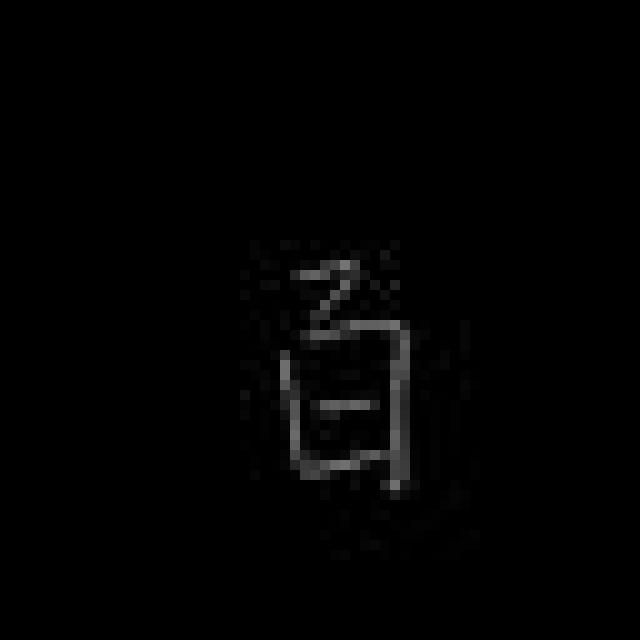100 -a hundred-: (263, 243, 421, 513)
